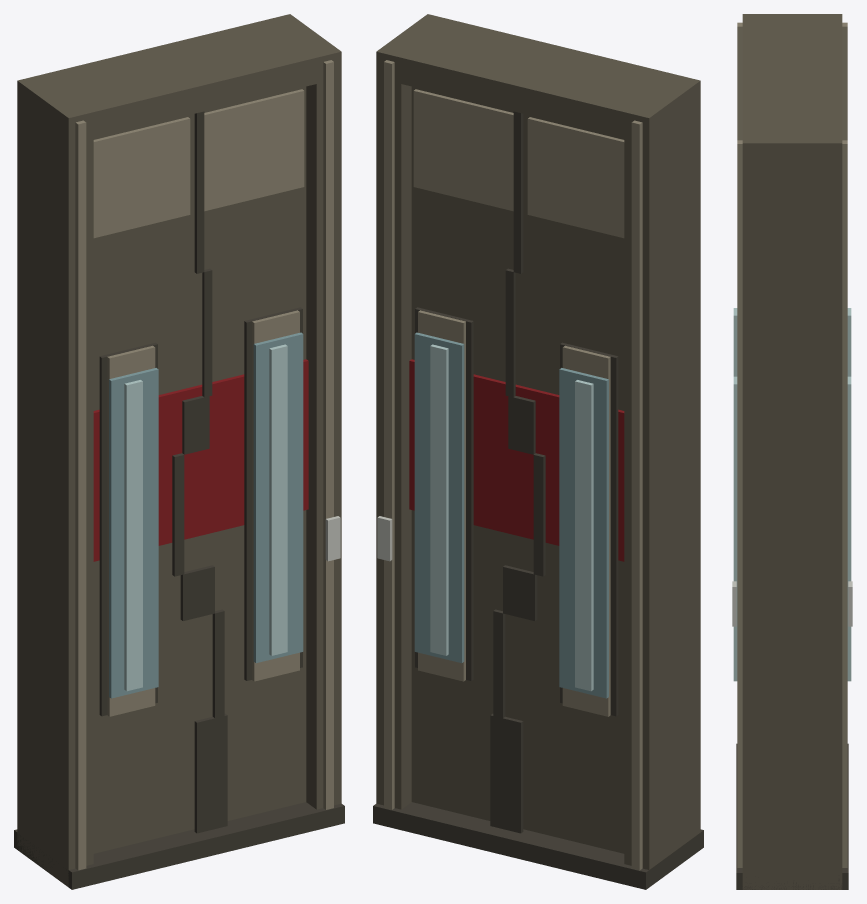
The model's file is CMU3DSingleSecurityGovforDoorGlass.glb.
The picture shows the model from 3 angles, left to right: view 1: azimuth 30°, elevation 25°; view 2: azimuth 150°, elevation 25°; view 3: azimuth 270°, elevation 25°; orthographic projection. The views are drawn at different scales.
Parts seen in each view (by area): view 1: door jamb (×2), closed leaf body, glass port (×2), header, upper inset band (×2), jamb raised edge (×2), leaf meeting seam (×7), department color band, glass reflection (×2), threshold, window dark surround (×2), chamfered window shoulder (×2) (+1 smaller); view 2: door jamb (×2), closed leaf body, glass port back (×2), header, upper inset band back (×2), jamb raised edge (×2), leaf meeting seam back (×7), department color band back, glass reflection back (×2), threshold, window dark surround back (×2), chamfered window shoulder back (×2) (+1 smaller); view 3: door jamb (×2), header, jamb raised edge (×4), glass reflection (×2), glass reflection back (×2), threshold.
Part boxes in pixels (x1=…): door jamb (×2): x1=17, y1=14, x2=341, y2=887; closed leaf body: x1=93, y1=86, x2=306, y2=853; glass port (×2): x1=109, y1=332, x2=303, y2=698; header: x1=17, y1=14, x2=341, y2=144; upper inset band (×2): x1=93, y1=89, x2=304, y2=238; jamb raised edge (×2): x1=75, y1=60, x2=333, y2=870; leaf meeting seam (×7): x1=172, y1=111, x2=227, y2=833; department color band: x1=93, y1=359, x2=308, y2=561; glass reflection (×2): x1=124, y1=344, x2=287, y2=691; threshold: x1=14, y1=802, x2=344, y2=889; window dark surround (×2): x1=99, y1=307, x2=302, y2=716; chamfered window shoulder (×2): x1=107, y1=310, x2=299, y2=716; door jamb (×2): x1=376, y1=14, x2=700, y2=869; closed leaf body: x1=411, y1=86, x2=624, y2=853; glass port back (×2): x1=414, y1=332, x2=608, y2=698; header: x1=376, y1=14, x2=700, y2=144; upper inset band back (×2): x1=413, y1=89, x2=624, y2=238; jamb raised edge (×2): x1=384, y1=60, x2=642, y2=870; leaf meeting seam back (×7): x1=490, y1=111, x2=545, y2=833; department color band back: x1=409, y1=359, x2=624, y2=561; glass reflection back (×2): x1=430, y1=344, x2=593, y2=691; threshold: x1=373, y1=802, x2=703, y2=889; window dark surround back (×2): x1=415, y1=307, x2=618, y2=716; chamfered window shoulder back (×2): x1=418, y1=310, x2=610, y2=716; door jamb (×2): x1=742, y1=14, x2=842, y2=889; header: x1=742, y1=14, x2=842, y2=168; jamb raised edge (×4): x1=737, y1=22, x2=847, y2=867; glass reflection (×2): x1=733, y1=308, x2=737, y2=681; glass reflection back (×2): x1=847, y1=308, x2=851, y2=681; threshold: x1=736, y1=743, x2=848, y2=889.
Bounding box in the file's own units: 0.98 × 2.64 × 0.386.
